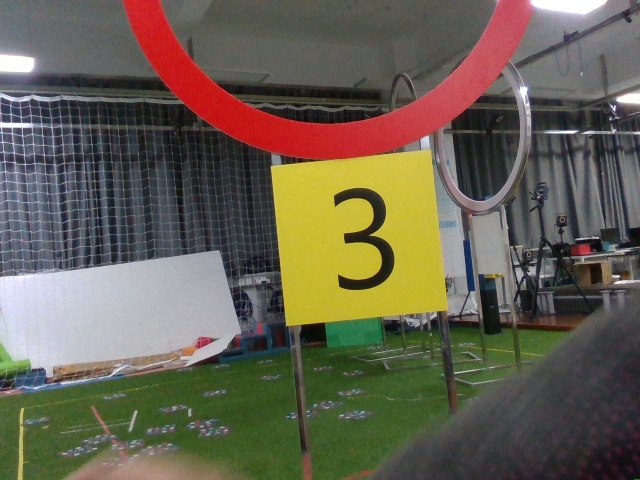target: (285, 162, 442, 316)
